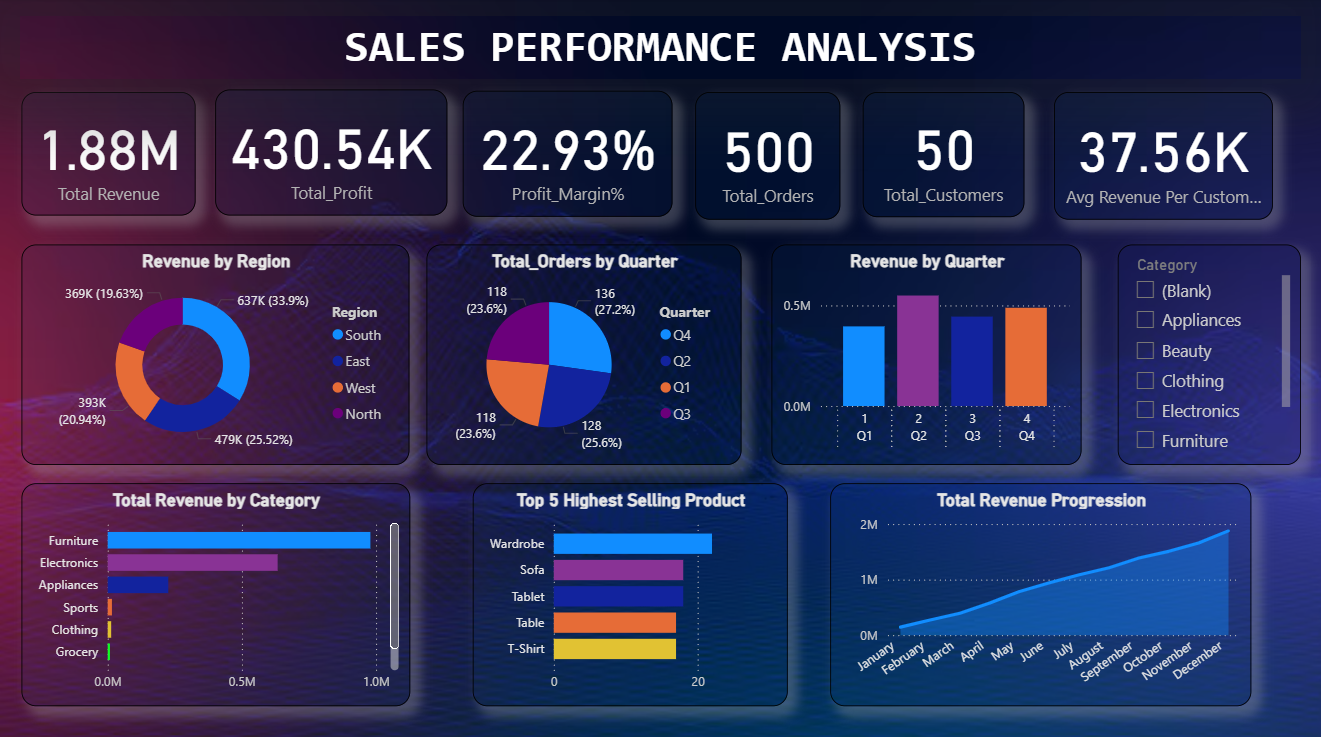

The page's visual inventory and layout, read from the dashboard file:
{"tool":"powerbi","page":{"name":"Page 1","canvas":[1280,720],"ordinal":0},"visuals":[{"type":"card","fields":{"Values":["sales.Total Revenue"]},"box":[22,91.9,196.2,119.4],"z":0},{"type":"textbox","box":[21,18.5,1235.8,60.5],"z":1000},{"type":"card","fields":{"Values":["sales.Total_Profit"]},"box":[242.9,91.9,248.4,122.1],"z":2000},{"type":"card","fields":{"Values":["sales.Profit_Margin%"]},"box":[511.8,89.2,233.3,122.1],"z":3000},{"type":"card","fields":{"Values":["sales.Total_Orders"]},"box":[761.6,93.3,234.6,122.1],"z":4000},{"type":"card","fields":{"Values":["sales.Avg Revenue Per Customer"]},"box":[1018.2,91.9,211.3,123.5],"z":5000},{"type":"donutChart","title":"Revenue by Region","fields":{"Category":["customers.Region"],"Y":["Sum(sales.Revenue)"]},"box":[22,238.8,374.6,212.7],"z":6000},{"type":"barChart","fields":{"Category":["products.Category"],"Y":["sales.Total Revenue"]},"box":[22.2,469.4,375,215.3],"z":7000},{"type":"pieChart","fields":{"Y":["sales.Total_Orders"],"Category":["dates.Quarter"]},"box":[412.5,238.9,304.2,212.5],"z":8000},{"type":"barChart","title":"Top 5 Highest Selling Product","fields":{"Category":["products.ProductName"],"Y":["sales.Total_Orders"]},"box":[457.7,469.8,304.3,215.4],"z":9000},{"type":"columnChart","title":" Revenue by Quarter ","fields":{"Category":["dates.Quarter","dates.Quarter Sort"],"Y":["Sum(sales.Revenue)"]},"box":[745.1,238.8,299.1,212.7],"z":9001},{"type":"slicer","fields":{"Values":["products.Category"]},"box":[1079.9,238.8,177,212.7],"z":9002},{"type":"areaChart","title":"Total Revenue Progression","fields":{"Y":["sales.Running Total Revenue"],"Category":["dates.Date.Variation.Date Hierarchy.Month"]},"box":[802.4,469.8,406.6,215.4],"z":9003}]}

Visuals, with their boxes in screenshot pixels (x1, y1, x2, y2), scaled from the page's 1280x720 canvas onto the 1321x737 screenshot:
card - sales.Total Revenue: left=23, top=94, right=225, bottom=216
textbox: left=22, top=19, right=1297, bottom=81
card - sales.Total_Profit: left=251, top=94, right=507, bottom=219
card - sales.Profit_Margin%: left=528, top=91, right=769, bottom=216
card - sales.Total_Orders: left=786, top=96, right=1028, bottom=220
card - sales.Avg Revenue Per Customer: left=1051, top=94, right=1269, bottom=220
"Revenue by Region" donutChart: left=23, top=244, right=409, bottom=462
barChart - products.Category x sales.Total Revenue: left=23, top=480, right=410, bottom=701
pieChart - sales.Total_Orders x dates.Quarter: left=426, top=245, right=740, bottom=462
"Top 5 Highest Selling Product" barChart: left=472, top=481, right=786, bottom=701
" Revenue by Quarter " columnChart: left=769, top=244, right=1078, bottom=462
slicer - products.Category: left=1114, top=244, right=1297, bottom=462
"Total Revenue Progression" areaChart: left=828, top=481, right=1248, bottom=701
